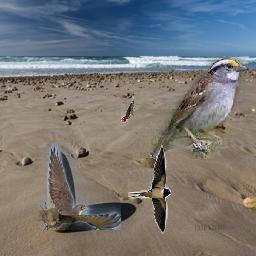Cuckoo: (31, 142, 122, 230)
Sparrow: (151, 57, 248, 159)
Swallow: (129, 146, 172, 235)
Woodpecker: (122, 95, 135, 123)
